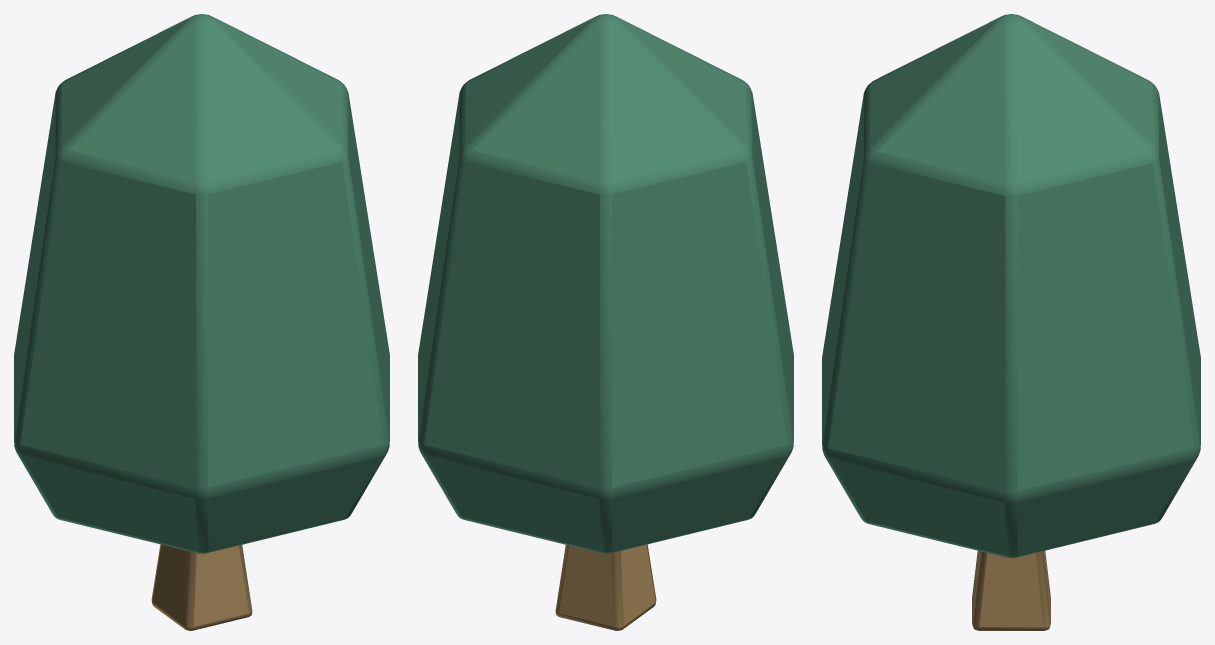
File: Large_Oak_Green_01.obj
The picture shows the model from 3 angles, left to right: view 1: azimuth 30°, elevation 25°; view 2: azimuth 150°, elevation 25°; view 3: azimuth 270°, elevation 25°; orthographic projection.
Parts seen in each view (by area): view 1: Large_Oak_Green_01; view 2: Large_Oak_Green_01; view 3: Large_Oak_Green_01.
Boxes of the visible parts, x1,y1,x2,y2 form: Large_Oak_Green_01: (14, 14, 389, 630); Large_Oak_Green_01: (418, 14, 793, 630); Large_Oak_Green_01: (822, 14, 1200, 630).
Size of the model in its own units: 2.98 by 4.56 by 2.6.
